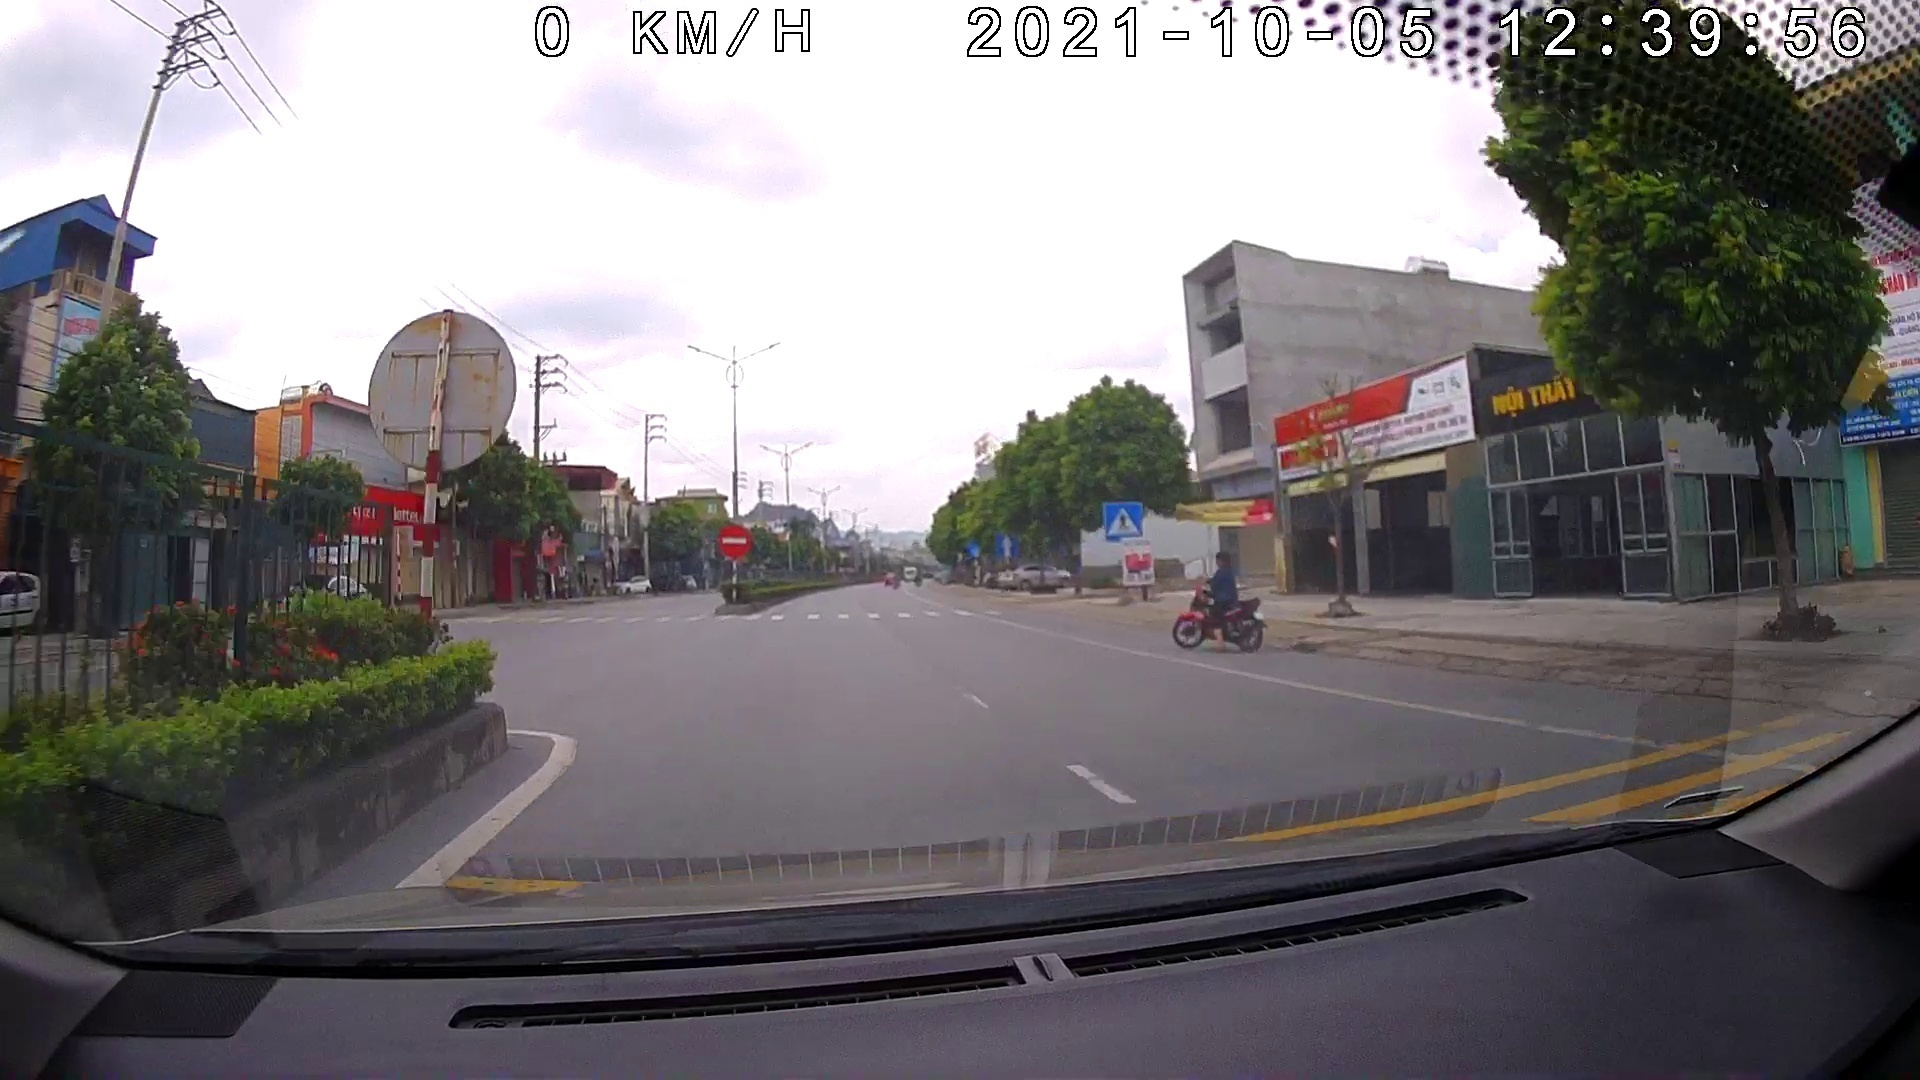Bien khac: (992, 527, 1021, 563)
Cam di nguoc chieu: (717, 521, 752, 563)
Nguoi di bo: (1102, 498, 1142, 545)
